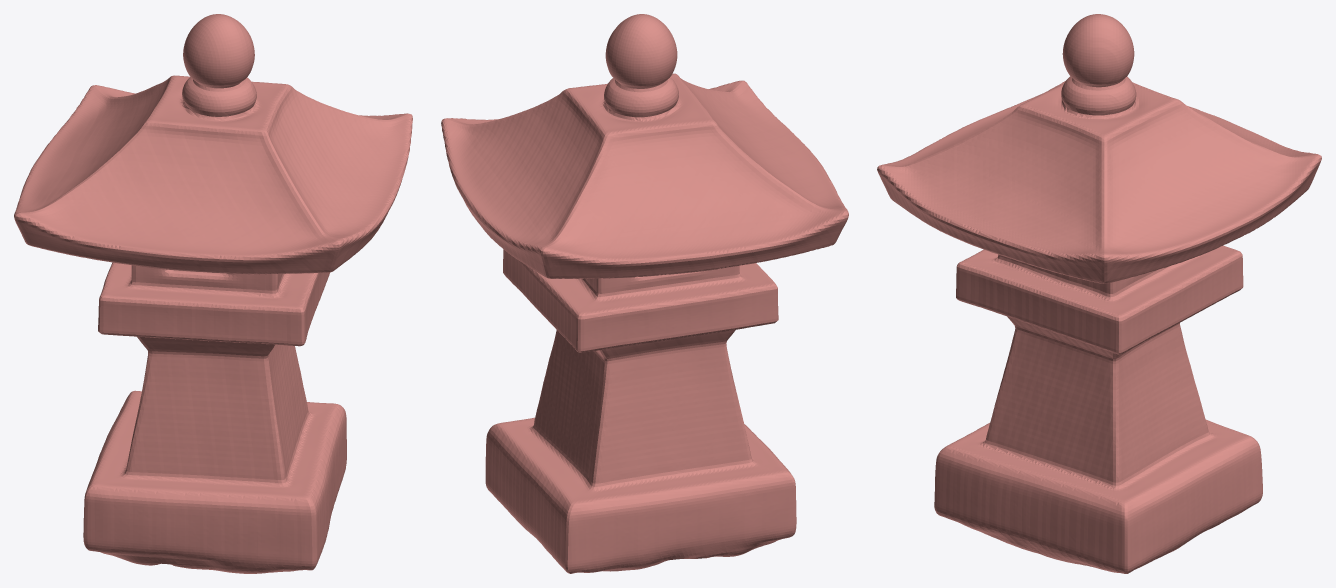
The model's file is exploded_parts.glb.
The picture shows the model from 3 angles, left to right: view 1: azimuth 30°, elevation 25°; view 2: azimuth 150°, elevation 25°; view 3: azimuth 270°, elevation 25°; orthographic projection.
Visible parts, largest first — view 1: part_001_13cf3d0f_e4_restored_001; view 2: part_001_13cf3d0f_e4_restored_001; view 3: part_001_13cf3d0f_e4_restored_001.
Part boxes in pixels (x1,y1,x2,y2): part_001_13cf3d0f_e4_restored_001: [14, 14, 412, 573]; part_001_13cf3d0f_e4_restored_001: [441, 14, 848, 573]; part_001_13cf3d0f_e4_restored_001: [877, 14, 1321, 573].
Bounding box in the file's own units: 0.2914 × 0.356 × 0.2823.
